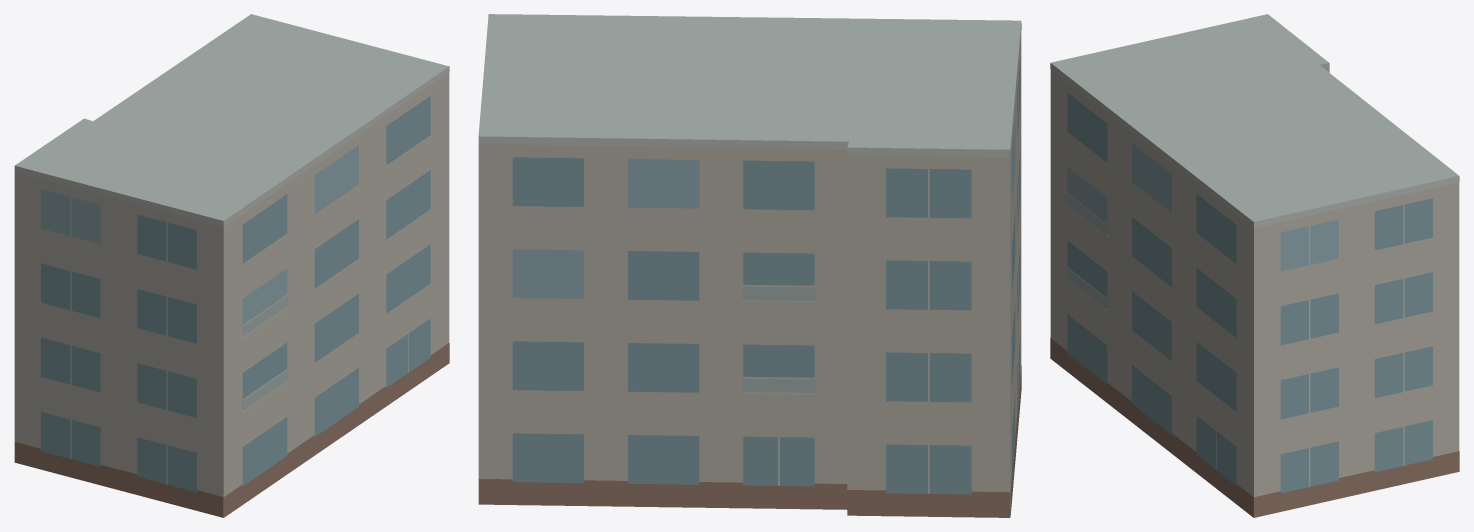
The model's file is survey-upis-32886199.glb.
3 views of the same model, side by side, from view 1: azimuth 30°, elevation 25°; view 2: azimuth 150°, elevation 25°; view 3: azimuth 270°, elevation 25° (orthographic). The views are drawn at different scales.
Visible parts, largest first — view 1: survey-upis-32886199.tmp; view 2: survey-upis-32886199.tmp; view 3: survey-upis-32886199.tmp.
Part boxes in pixels (box(x1,y1,x2,y2)): survey-upis-32886199.tmp: box(14, 14, 449, 517); survey-upis-32886199.tmp: box(478, 14, 1021, 517); survey-upis-32886199.tmp: box(1050, 14, 1459, 517).
Bounding box in the file's own units: 17.51 × 11.6 × 14.55.
